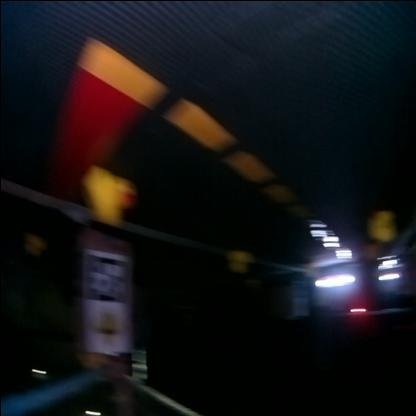Duckie: (84, 167, 132, 224), (370, 210, 394, 241), (226, 250, 250, 272), (23, 236, 42, 254)
Intersection sign: (87, 303, 126, 351)
QR code: (83, 254, 127, 298)
